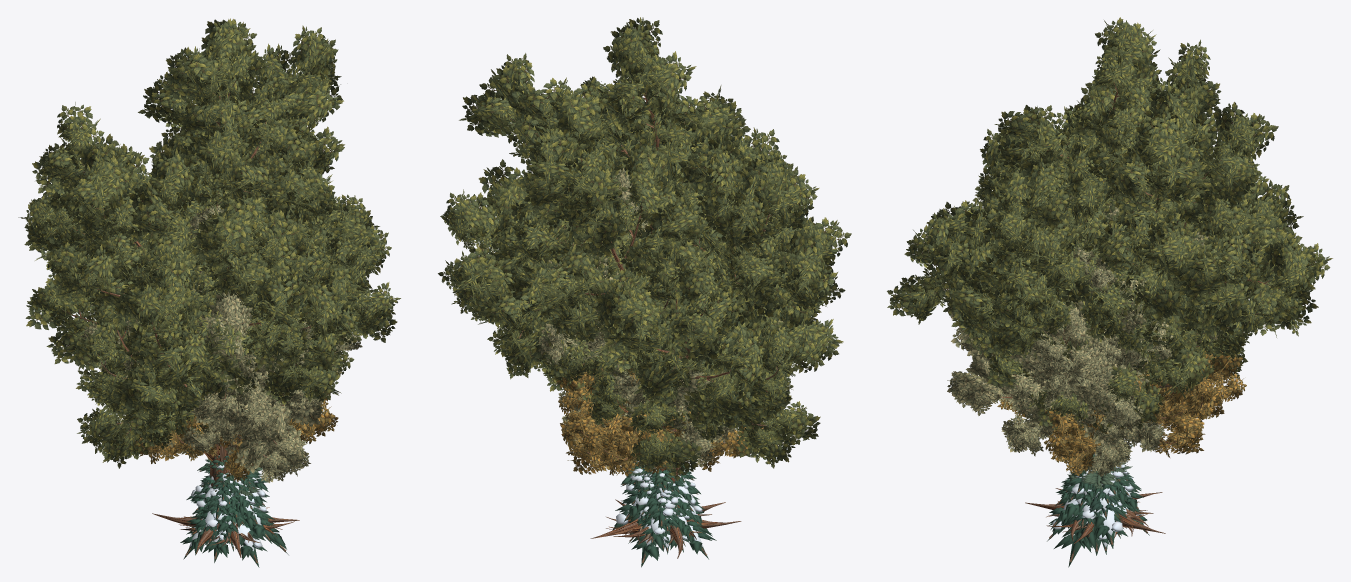
File: forest.glb
3 renders of one model, left to right at view 1: azimuth 30°, elevation 25°; view 2: azimuth 150°, elevation 25°; view 3: azimuth 270°, elevation 25°, orthographic. The views are drawn at different scales.
Parts seen in each view (by area): view 1: tree9_Medium, tree8_Medium, Leaves_LOD0.005, tree7_Medium, Leaves_LOD0.003, Alpine15_1, Leaves_LOD0.002, Alpine15_2, Alpine10_1, Leaves_LOD0.004; view 2: tree9_Medium, tree8_Medium, tree7_Medium, Leaves_LOD0.002, Alpine15_1, Leaves_LOD0.003, Leaves_LOD0.005, Leaves_LOD0.004, Alpine10_1, Alpine15_2; view 3: tree9_Medium, tree8_Medium, Leaves_LOD0.002, Leaves_LOD0.004, tree7_Medium, Leaves_LOD0.003, Leaves_LOD0.005, Alpine15_1, Alpine15_2.
Part boxes in pixels (<box>): tree9_Medium: <box>18,18,347,557</box>; tree8_Medium: <box>61,131,400,542</box>; Leaves_LOD0.005: <box>80,203,344,473</box>; tree7_Medium: <box>90,173,354,543</box>; Leaves_LOD0.003: <box>102,205,362,482</box>; Alpine15_1: <box>180,455,288,567</box>; Leaves_LOD0.002: <box>129,386,338,482</box>; Alpine15_2: <box>189,455,266,551</box>; Alpine10_1: <box>186,445,258,533</box>; Leaves_LOD0.004: <box>204,307,339,468</box>; tree9_Medium: <box>438,17,851,558</box>; tree8_Medium: <box>506,108,820,544</box>; tree7_Medium: <box>559,167,803,538</box>; Leaves_LOD0.002: <box>556,361,763,476</box>; Alpine15_1: <box>612,465,716,567</box>; Leaves_LOD0.003: <box>558,287,739,467</box>; Leaves_LOD0.005: <box>539,168,782,436</box>; Leaves_LOD0.004: <box>538,183,764,442</box>; Alpine10_1: <box>634,462,703,545</box>; Alpine15_2: <box>616,473,703,547</box>; tree9_Medium: <box>926,17,1332,543</box>; tree8_Medium: <box>887,106,1262,532</box>; Leaves_LOD0.002: <box>997,348,1246,475</box>; Leaves_LOD0.004: <box>963,205,1242,450</box>; tree7_Medium: <box>962,193,1247,538</box>; Leaves_LOD0.003: <box>947,246,1164,476</box>; Leaves_LOD0.005: <box>947,195,1209,443</box>; Alpine15_1: <box>1047,454,1149,567</box>; Alpine15_2: <box>1052,469,1133,539</box>.
Bounding box in the file's own units: 44.44 × 68.82 × 52.36.
13 materials, 11 textured.
